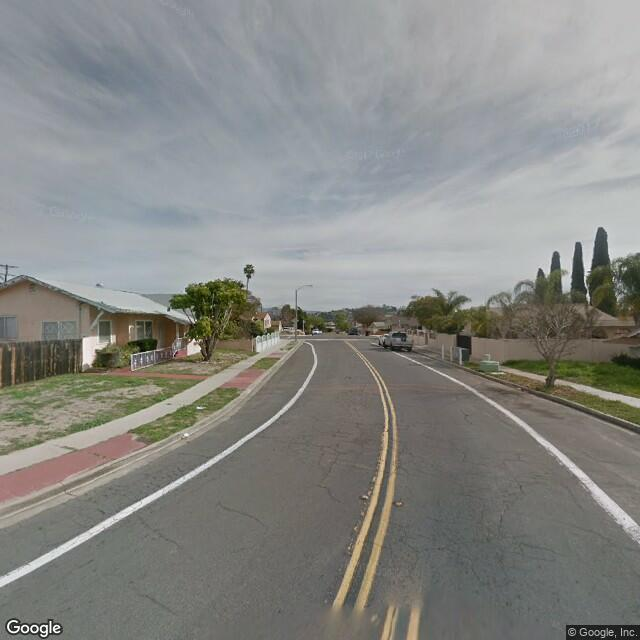litter: (175, 427, 195, 446)
